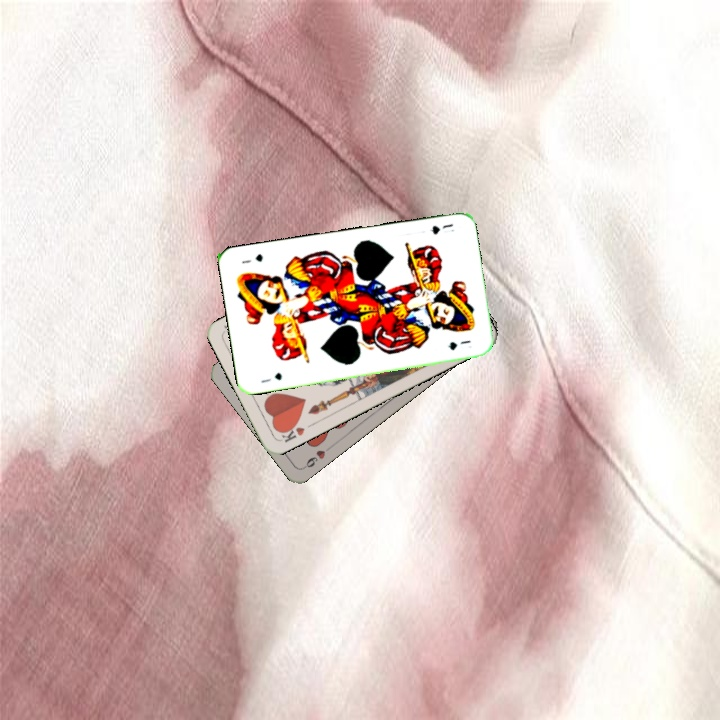GU: (426, 219, 455, 237), (257, 369, 284, 385)
H9: (299, 442, 334, 471)
HK: (276, 419, 307, 445)
